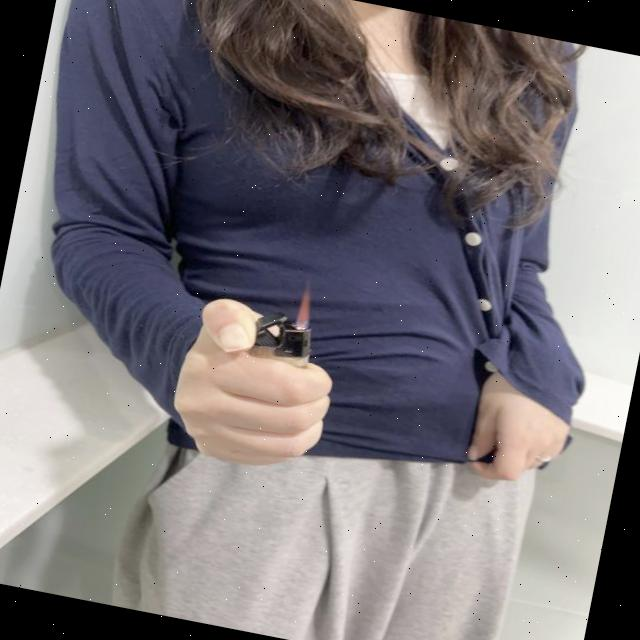fire: (294, 290, 316, 329)
